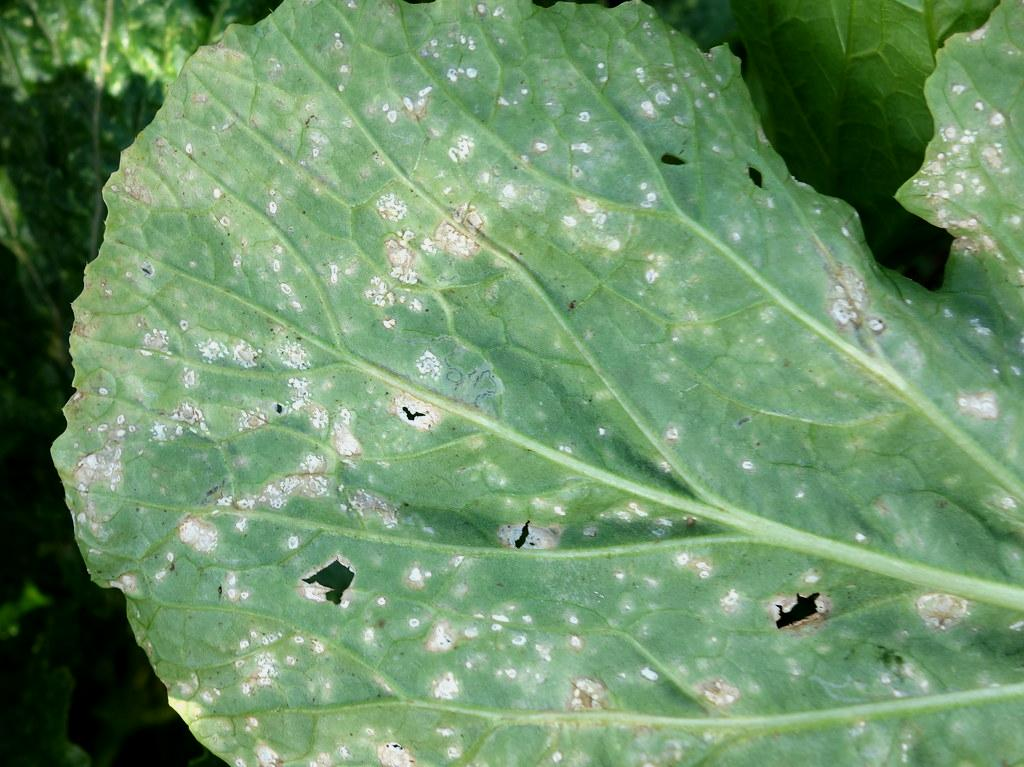Bok-Choy-Diseased: (85, 18, 1024, 767)
